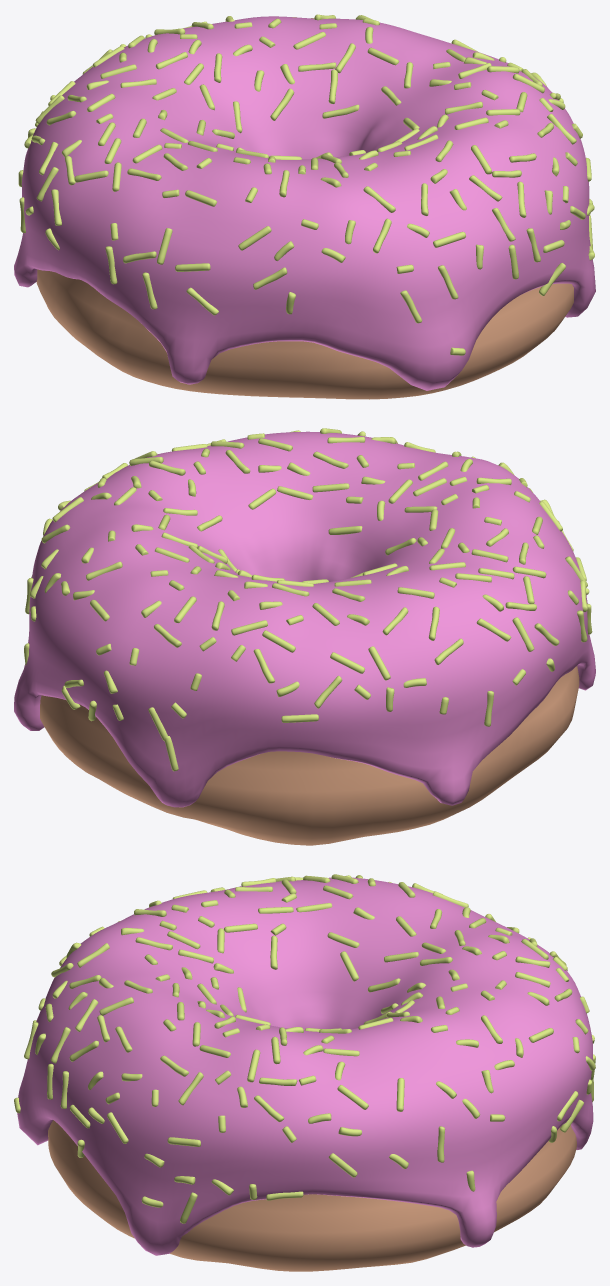
The model's file is donut.fbx.
3 renders of one model, top to bottom at view 1: azimuth 30°, elevation 25°; view 2: azimuth 150°, elevation 25°; view 3: azimuth 270°, elevation 25°, orthographic. The views are drawn at different scales.
Visible parts, largest first — view 1: Frosting, Donut; view 2: Frosting, Donut; view 3: Frosting, Donut.
Part boxes in pixels (x1,y1,x2,y2): Frosting: [14, 16, 595, 390]; Donut: [36, 269, 573, 399]; Frosting: [14, 431, 595, 807]; Donut: [40, 666, 579, 845]; Frosting: [17, 877, 593, 1255]; Donut: [48, 1120, 576, 1271].
Size of the model in its own units: 9.99 by 4.65 by 10.22.
